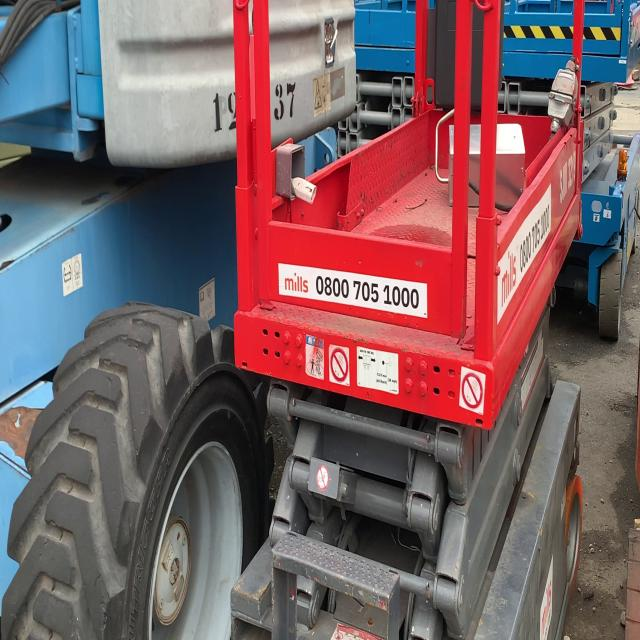Adesivo Longo: (277, 260, 429, 321), (496, 178, 552, 328)
